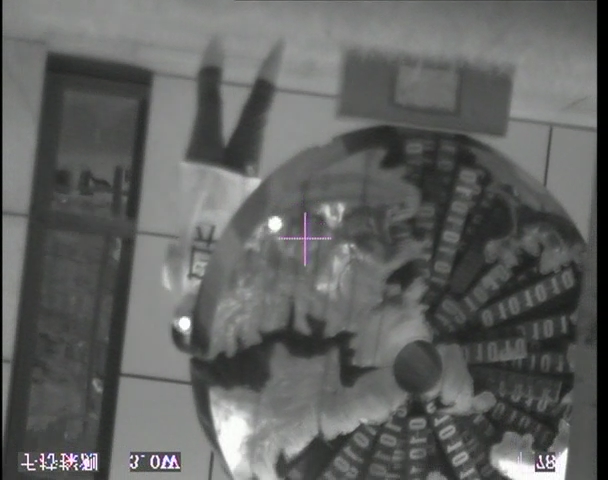my: (177, 315, 191, 331)
